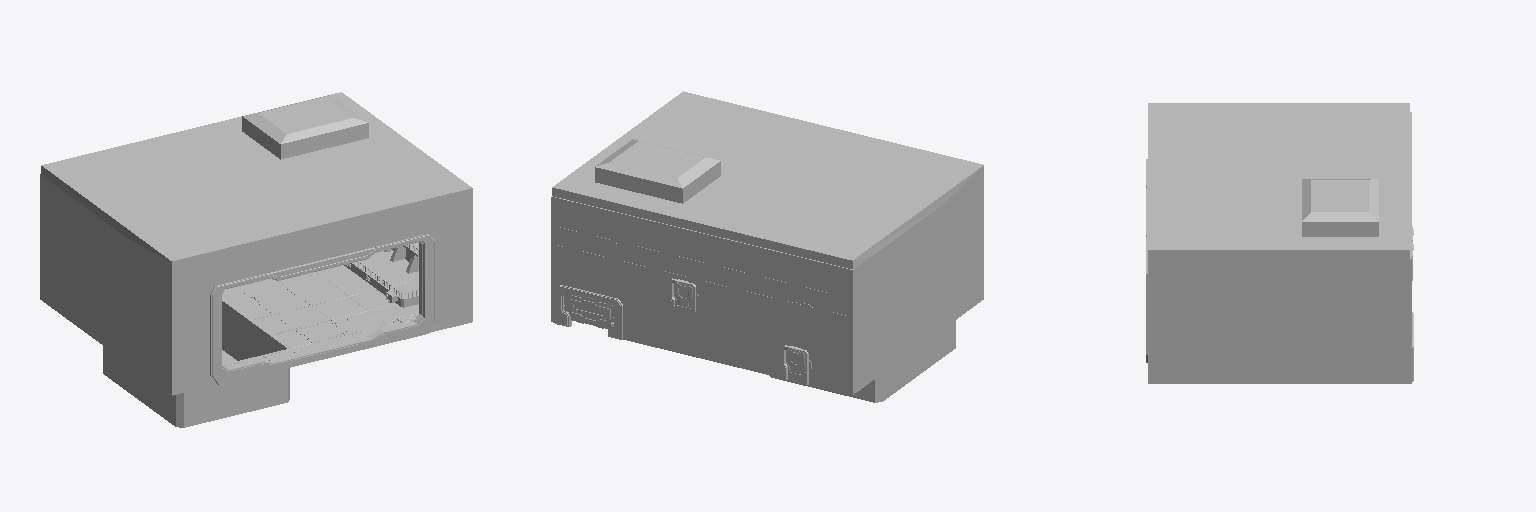
File: Hangar.obj
3 views of the same model, side by side, from view 1: azimuth 30°, elevation 25°; view 2: azimuth 150°, elevation 25°; view 3: azimuth 270°, elevation 25° (orthographic).
Parts seen in each view (by area): view 1: SM_Bld_Hanger_01; view 2: SM_Bld_Hanger_01; view 3: SM_Bld_Hanger_01.
Part boxes in pixels (x1,y1,x2,y2): SM_Bld_Hanger_01: (40,92,472,427); SM_Bld_Hanger_01: (551,91,983,402); SM_Bld_Hanger_01: (1146,103,1413,383).
Bounding box in the file's own units: 201 × 126 × 155.